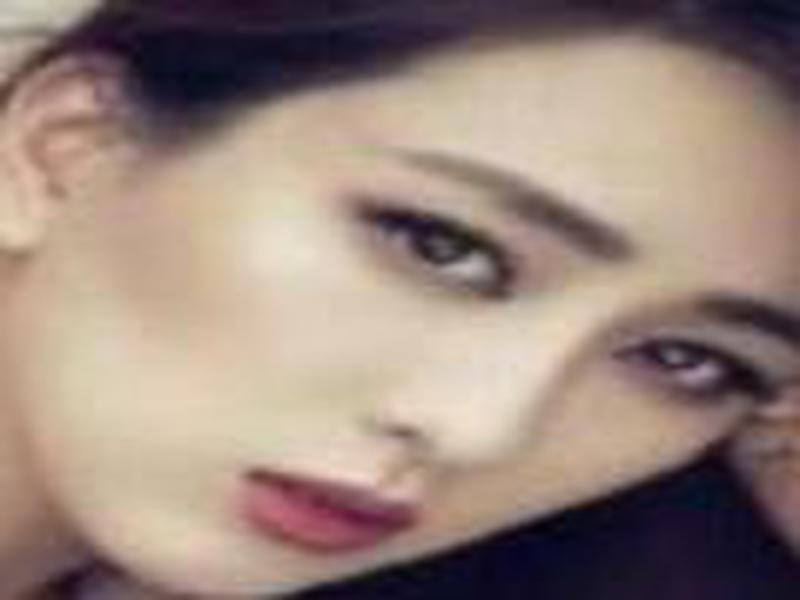without_mask: (28, 76, 794, 600)
